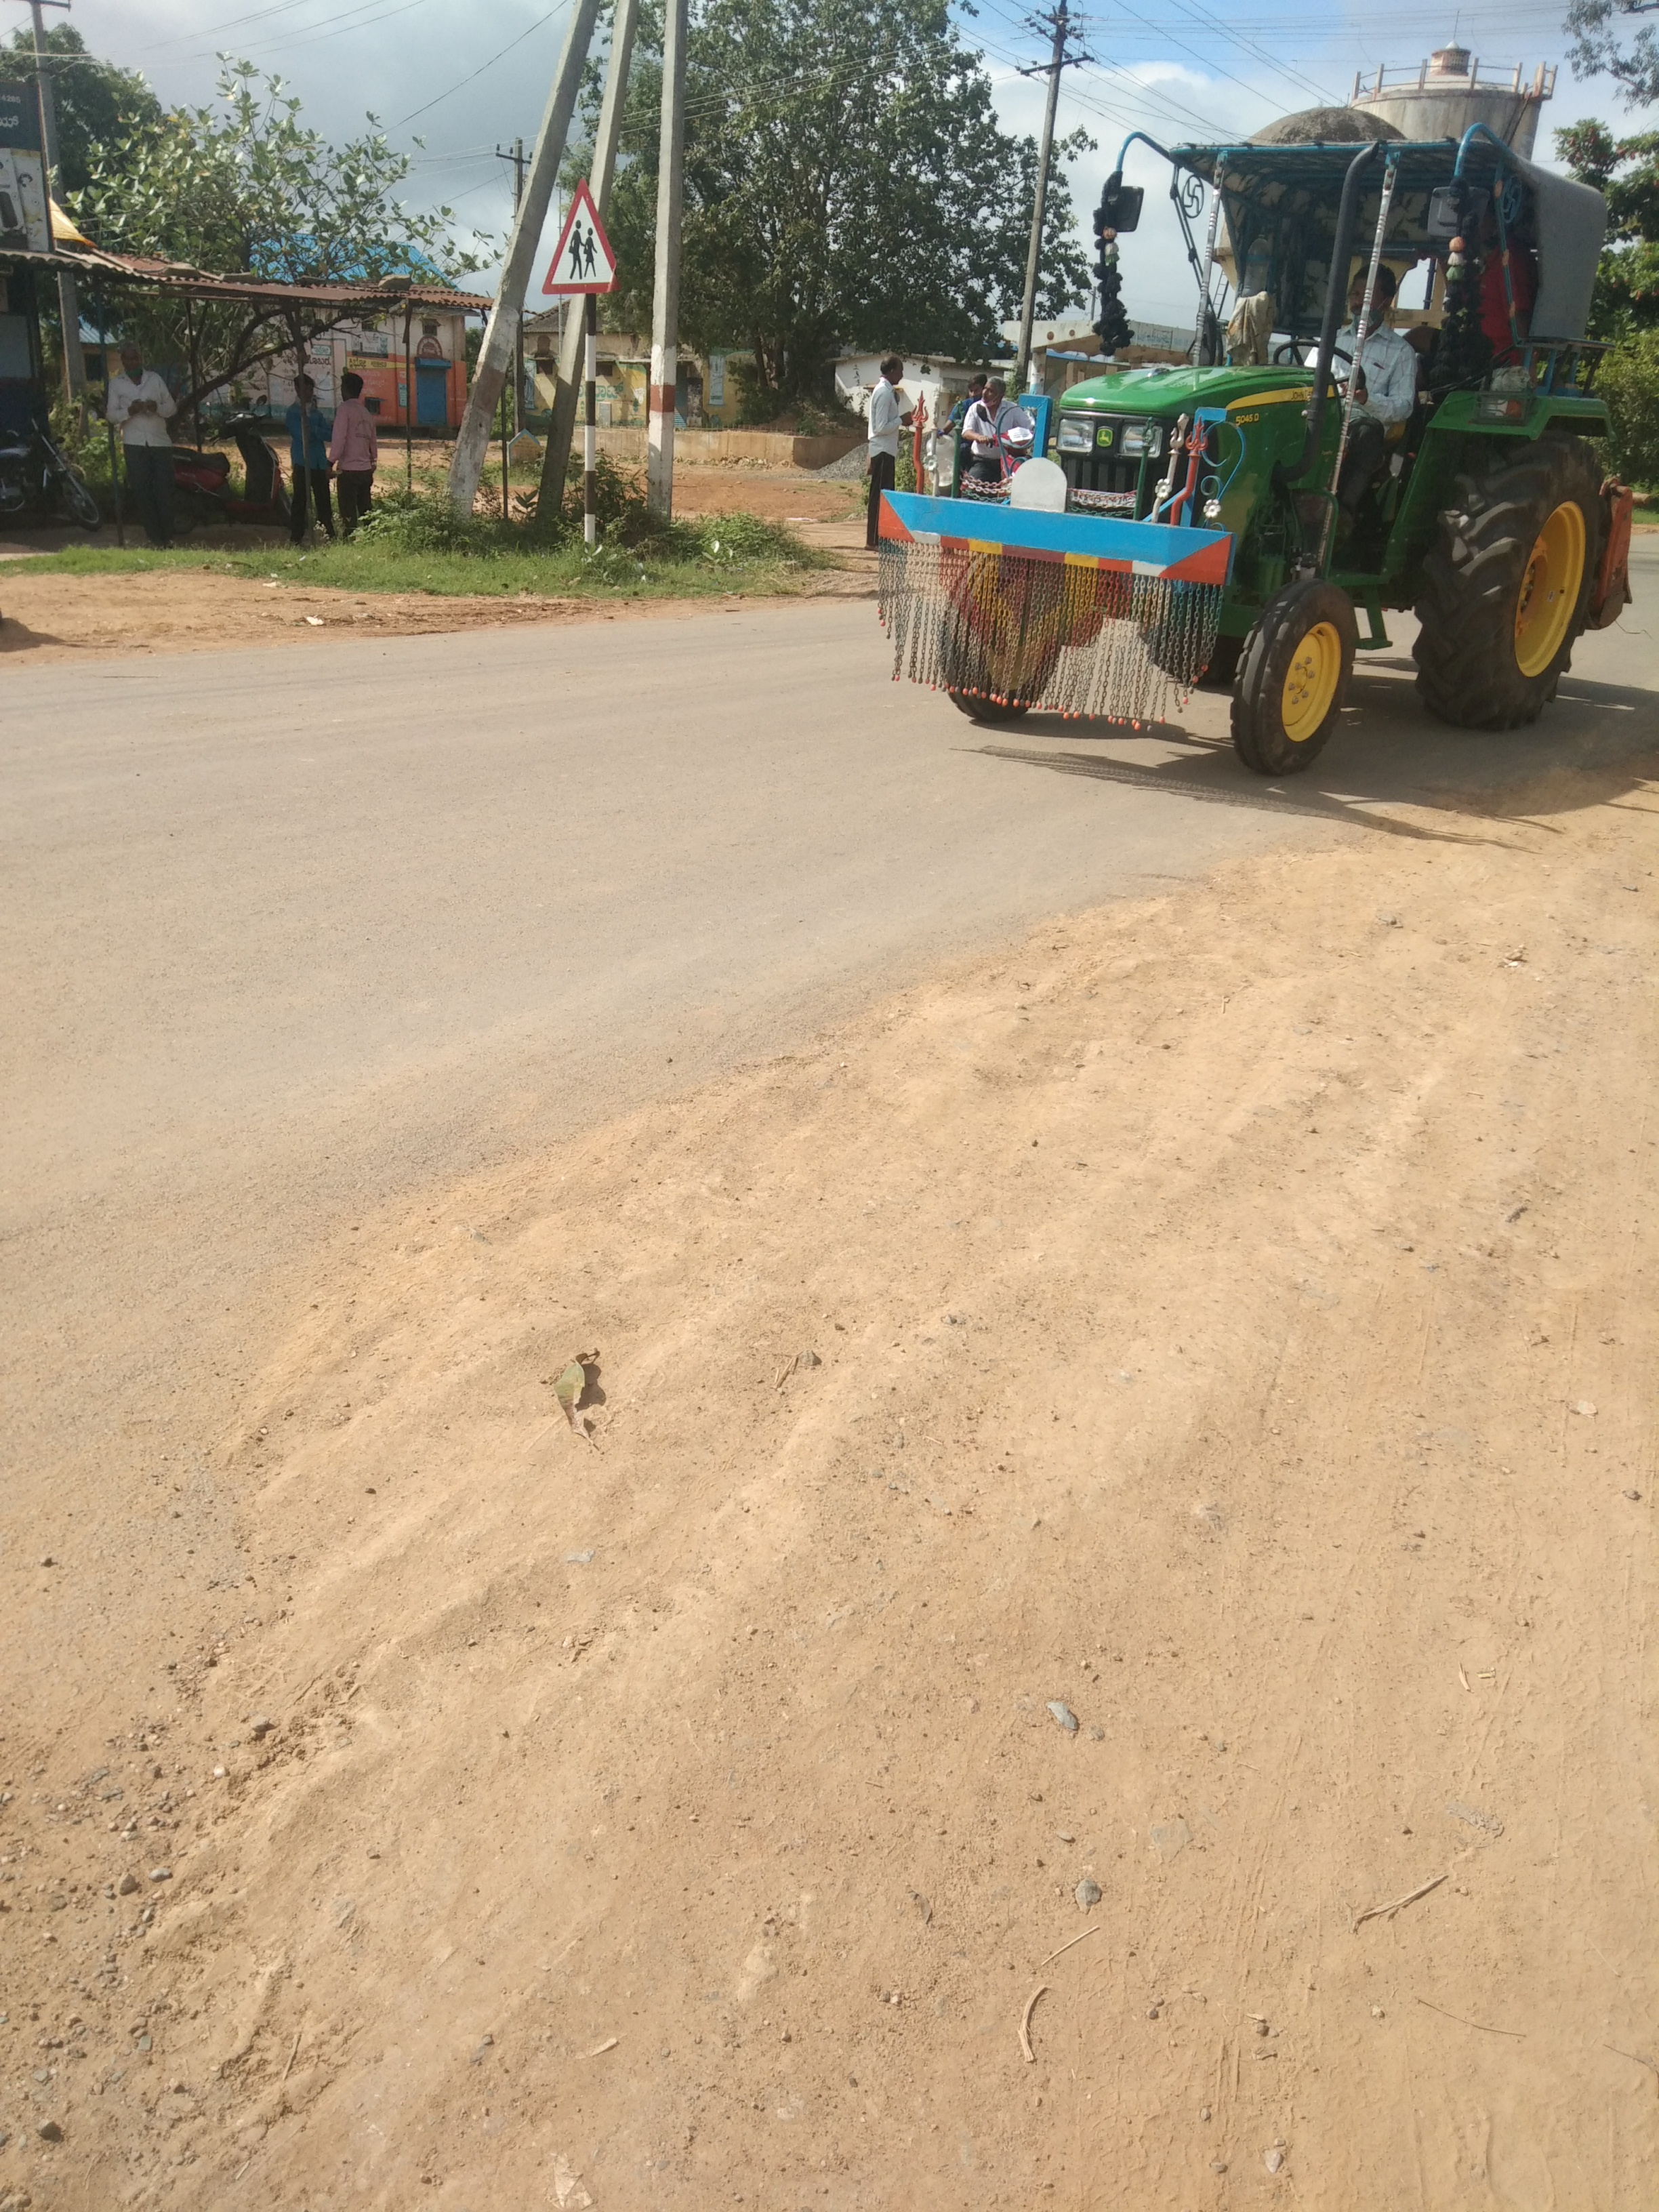tractor: (871, 117, 1643, 786)
